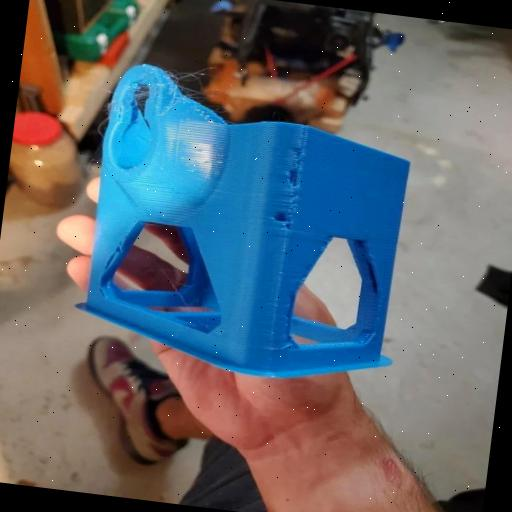cracks: (266, 134, 312, 236)
stringing: (86, 42, 224, 152)
